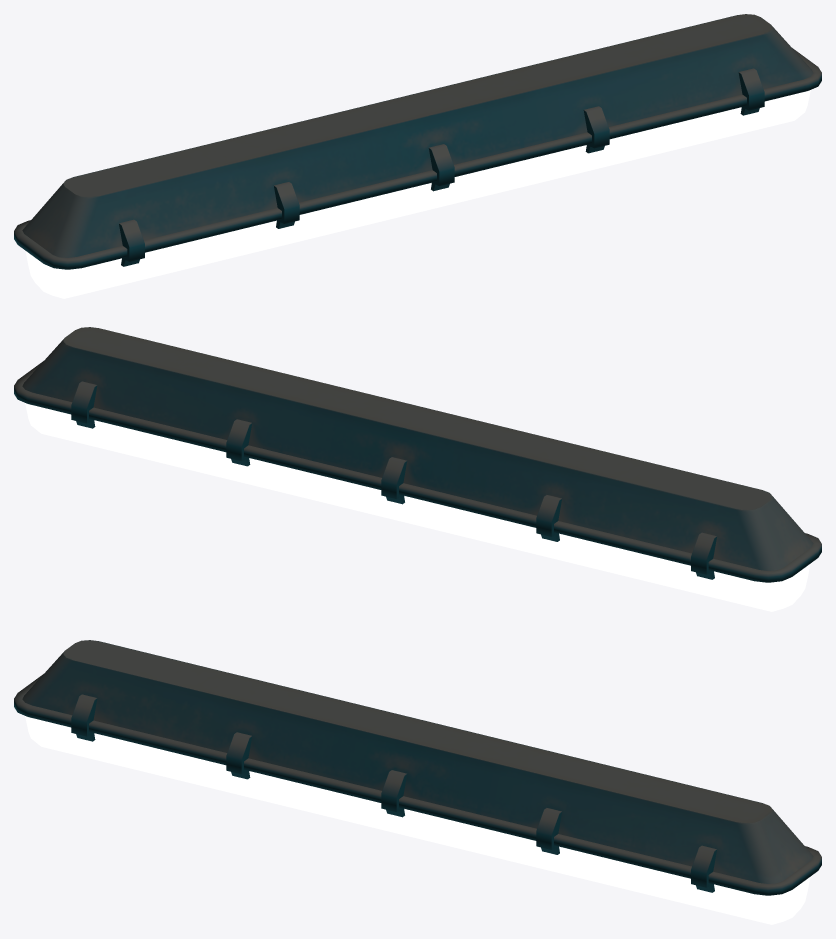
The model's file is CR_Tubelight.fbx.
3 views of the same model, one above another, from view 1: azimuth 30°, elevation 25°; view 2: azimuth 150°, elevation 25°; view 3: azimuth 330°, elevation 25° (orthographic).
Parts seen in each view (by area): view 1: Tubelight; view 2: Tubelight; view 3: Tubelight.
Boxes of the visible parts, x1,y1,x2,y2 form: Tubelight: (14, 14, 821, 298); Tubelight: (14, 327, 821, 611); Tubelight: (14, 640, 821, 924).
Size of the model in its own units: 200 by 24.94 by 25.93.
